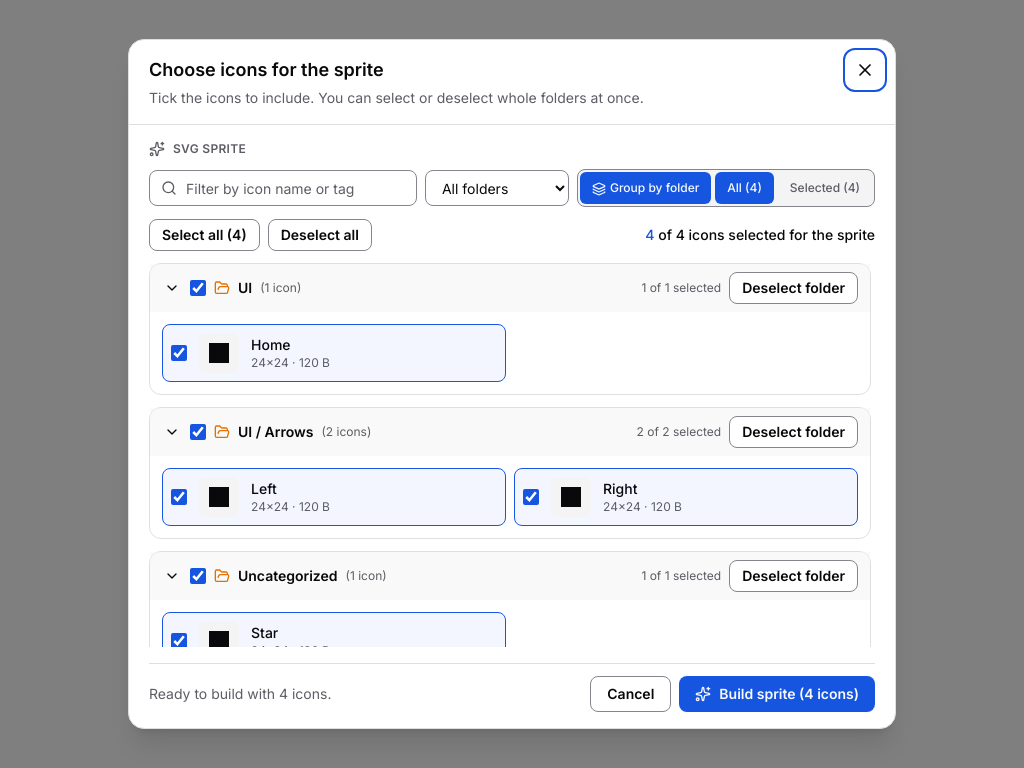
Test: grouping by folder › collapses and expands a folder
Click the button named "Collapse UI / Arrows" at (172, 432), box [162, 422, 182, 442]
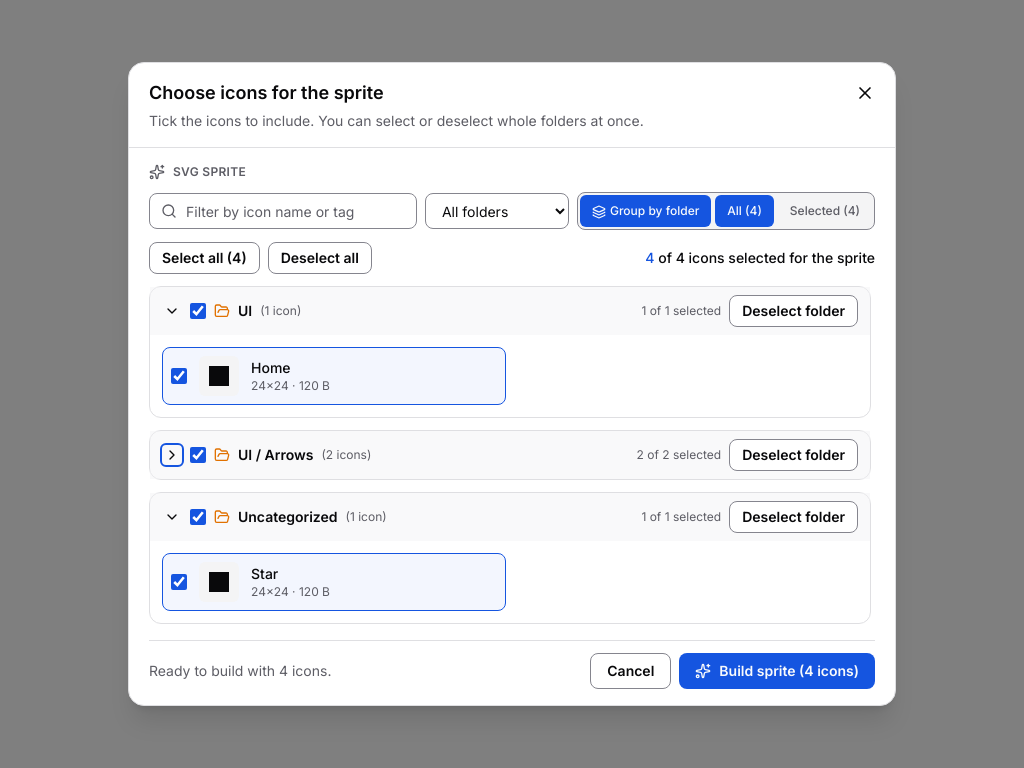
Expected: the text "Left" is gone
Click the button named "Expand UI / Arrows" at (172, 455), box [162, 445, 182, 465]
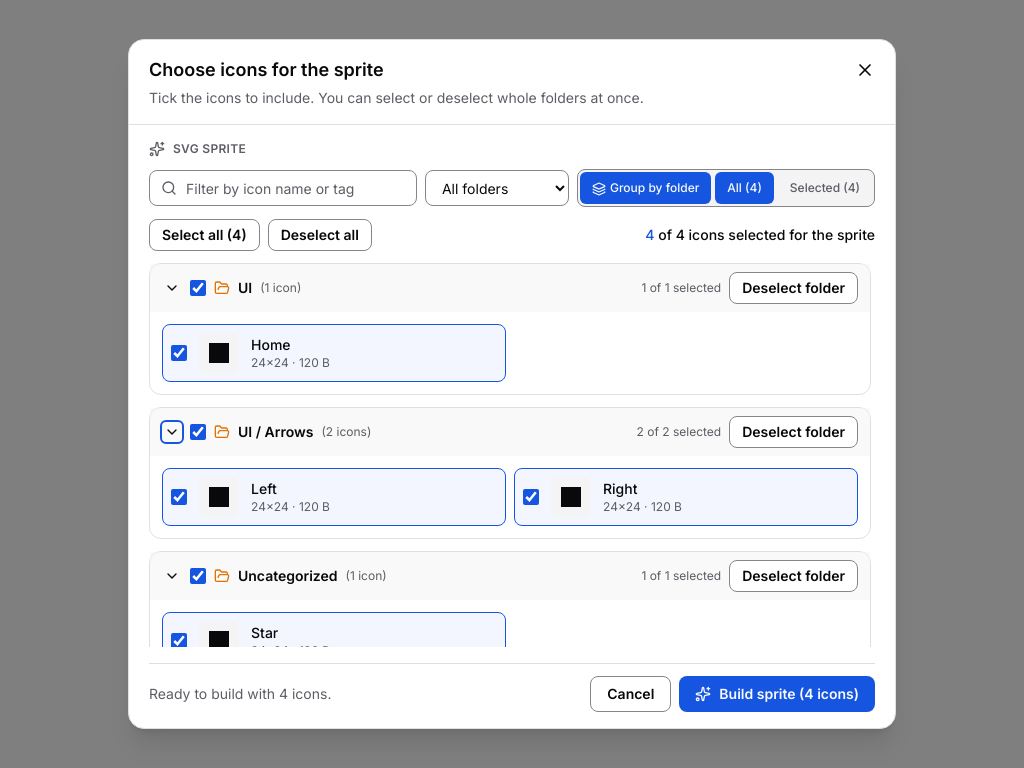
Expected: the checkbox labelled "Left 24×24 · 120 B" is shown, [171, 489, 187, 505]
